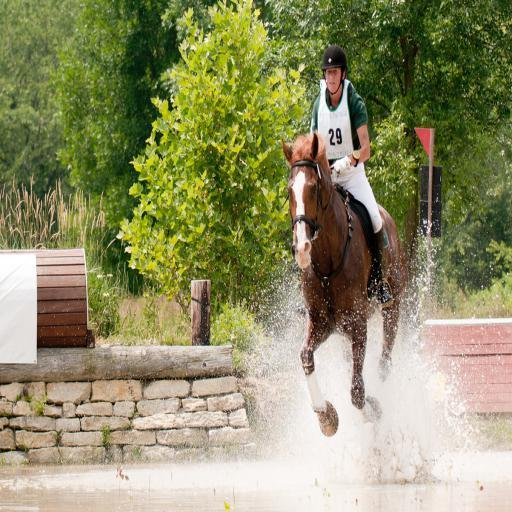horse: (278, 129, 410, 436)
